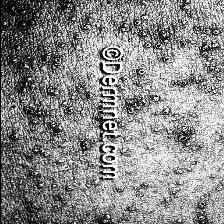Toxin: (118, 0, 224, 212), (1, 0, 98, 127), (0, 136, 99, 224)
